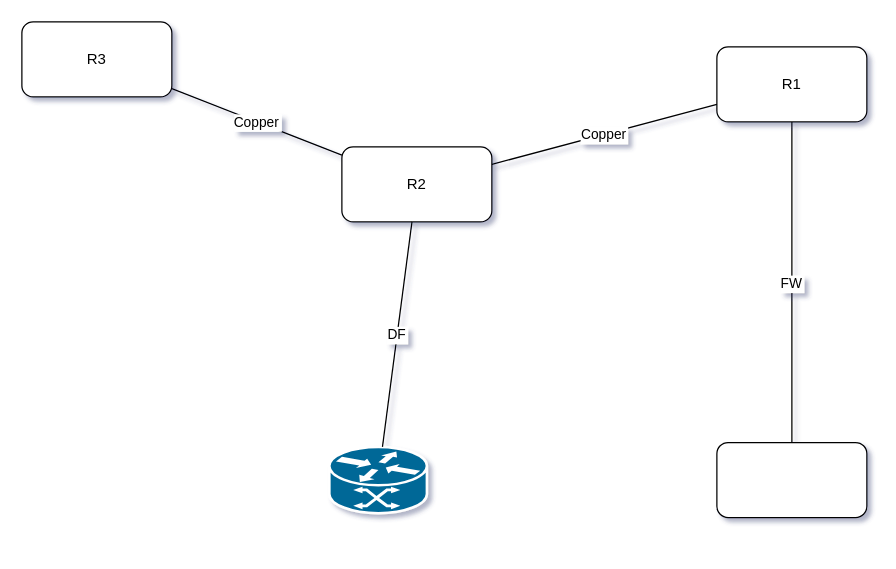
Image size: 896x569. Some labels were removed from this diagram. Here are the shapes that lost their labels. From the top down, the centre of each, then its label:
At point (378, 479): "R12".
At point (791, 479): "SW22".
